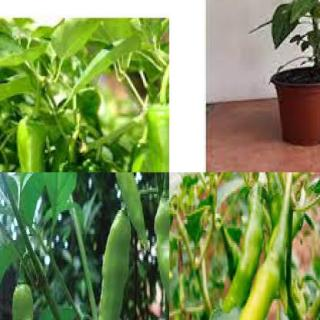green_chilli: (221, 230, 292, 319), (223, 190, 265, 312), (95, 206, 134, 320), (100, 172, 148, 247), (12, 117, 54, 171), (152, 196, 168, 320), (147, 98, 168, 172), (10, 282, 44, 319), (123, 146, 156, 172), (169, 213, 176, 281)
